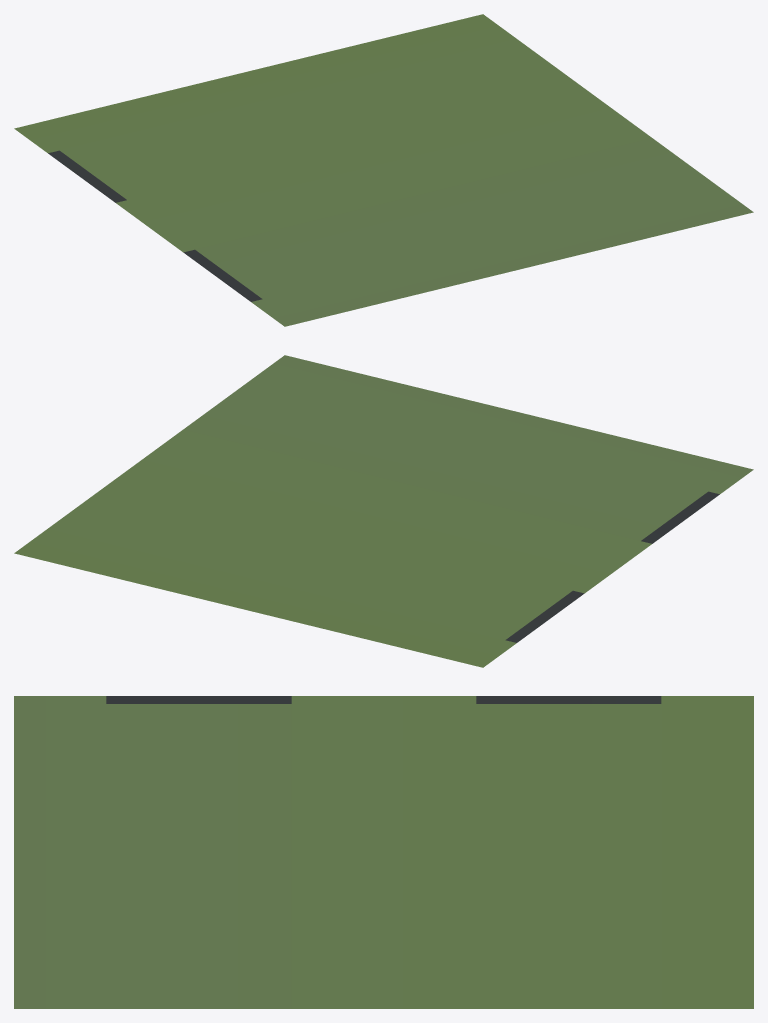
Rendered from RoadPart_02.fbx.
3 views of the same model, one above another, from view 1: azimuth 30°, elevation 25°; view 2: azimuth 150°, elevation 25°; view 3: azimuth 270°, elevation 25° (orthographic). The views are drawn at different scales.
Parts seen in each view (by area): view 1: RoadPart_02; view 2: RoadPart_02; view 3: RoadPart_02.
Boxes of the visible parts, x1,y1,x2,y2 form: RoadPart_02: (14,14,753,326); RoadPart_02: (14,355,753,667); RoadPart_02: (14,696,753,1008).
Bounding box in the file's own units: 3 × 4.88e-07 × 3.
